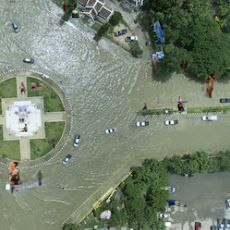Human: (169, 51, 196, 71), (0, 162, 23, 185), (158, 1, 206, 12), (200, 71, 217, 98), (19, 80, 43, 95), (100, 210, 115, 224), (166, 199, 187, 208), (177, 96, 188, 111), (72, 3, 80, 18), (16, 124, 28, 132), (37, 170, 43, 186), (151, 20, 157, 32), (51, 137, 57, 149), (45, 84, 50, 97), (11, 186, 19, 194), (62, 2, 66, 14), (142, 103, 148, 110), (19, 118, 24, 123), (211, 32, 214, 40), (126, 222, 129, 226), (162, 35, 165, 39), (215, 16, 218, 20), (105, 89, 110, 91), (149, 40, 151, 45), (10, 1, 15, 3)
